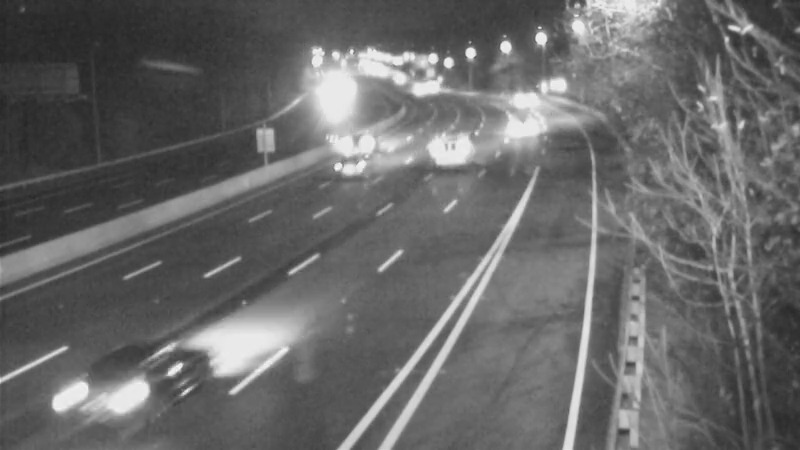vehicle: (49, 344, 159, 450), (402, 112, 482, 192), (312, 124, 392, 204), (501, 77, 551, 127), (502, 93, 552, 143), (333, 110, 383, 160)
